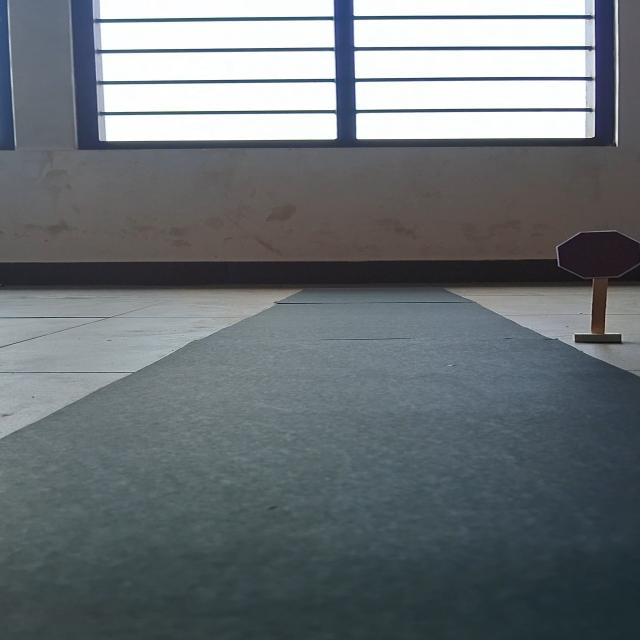Stop: (554, 230, 640, 281)
